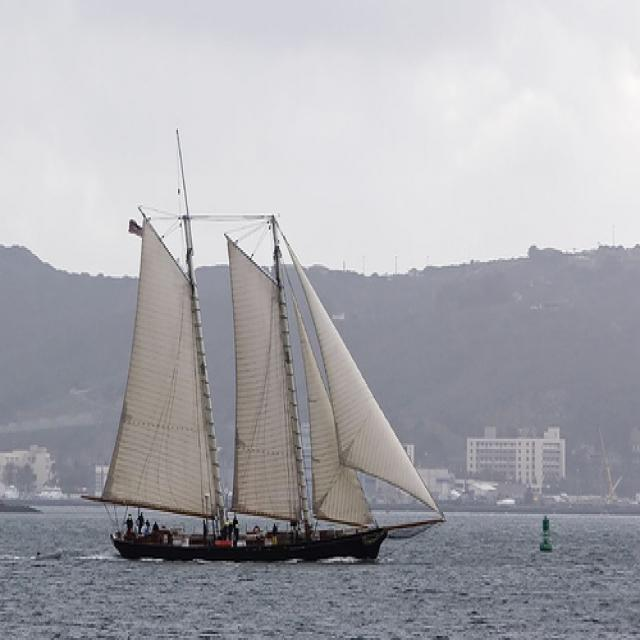Ship: (99, 151, 446, 583)
